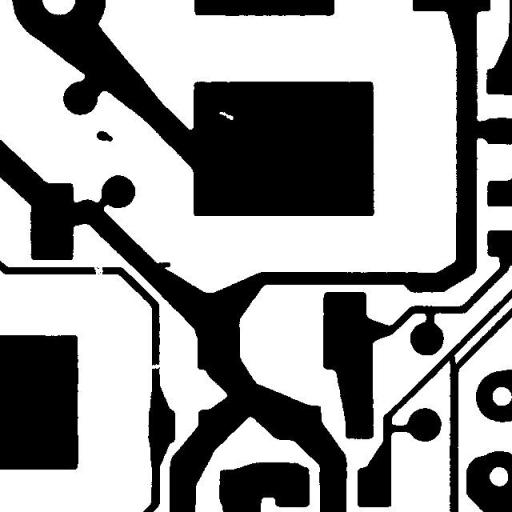copper: (89, 123, 120, 149)
open: (86, 256, 110, 286), (141, 356, 167, 376)
pin-hole: (211, 104, 241, 127)
short: (442, 347, 463, 378)
spur: (148, 254, 178, 277)
